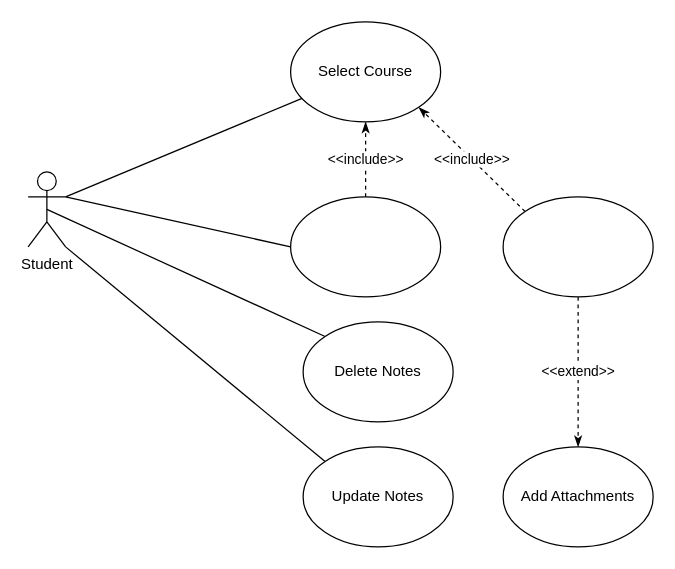
Image size: 675x569. Some labels were removed from this diagram. The centre of each missing label's shape, as x and y in pixels:
Add Notes: the point at 577,246
Search Notes: the point at 365,246
